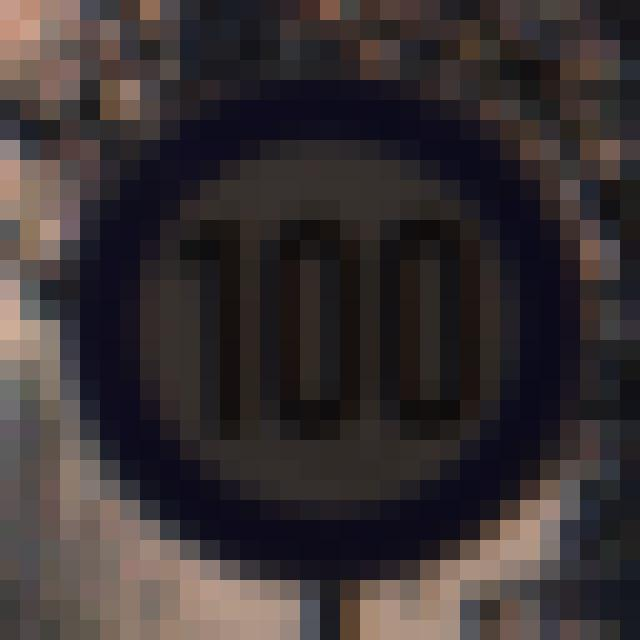SPEED LIMIT 100: (62, 81, 588, 571)
